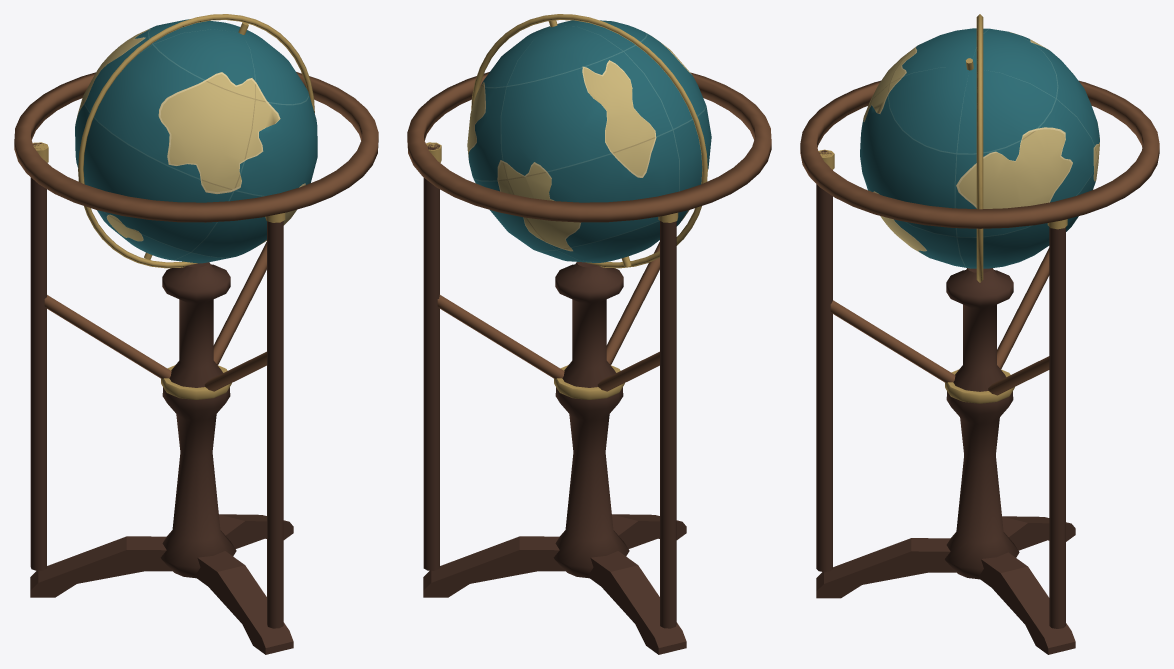
File: rpg-mansion-floor-globe-01.glb
3 renders of one model, left to right at view 1: azimuth 30°, elevation 25°; view 2: azimuth 150°, elevation 25°; view 3: azimuth 270°, elevation 25°, orthographic.
Parts seen in each view (by area): view 1: rpg-mansion-floor-globe-01; view 2: rpg-mansion-floor-globe-01; view 3: rpg-mansion-floor-globe-01.
Boxes of the visible parts, x1,y1,x2,y2 form: rpg-mansion-floor-globe-01: (14, 14, 378, 654); rpg-mansion-floor-globe-01: (407, 14, 771, 654); rpg-mansion-floor-globe-01: (800, 14, 1159, 654).
Size of the model in its own units: 0.68 by 1.18 by 0.68.
